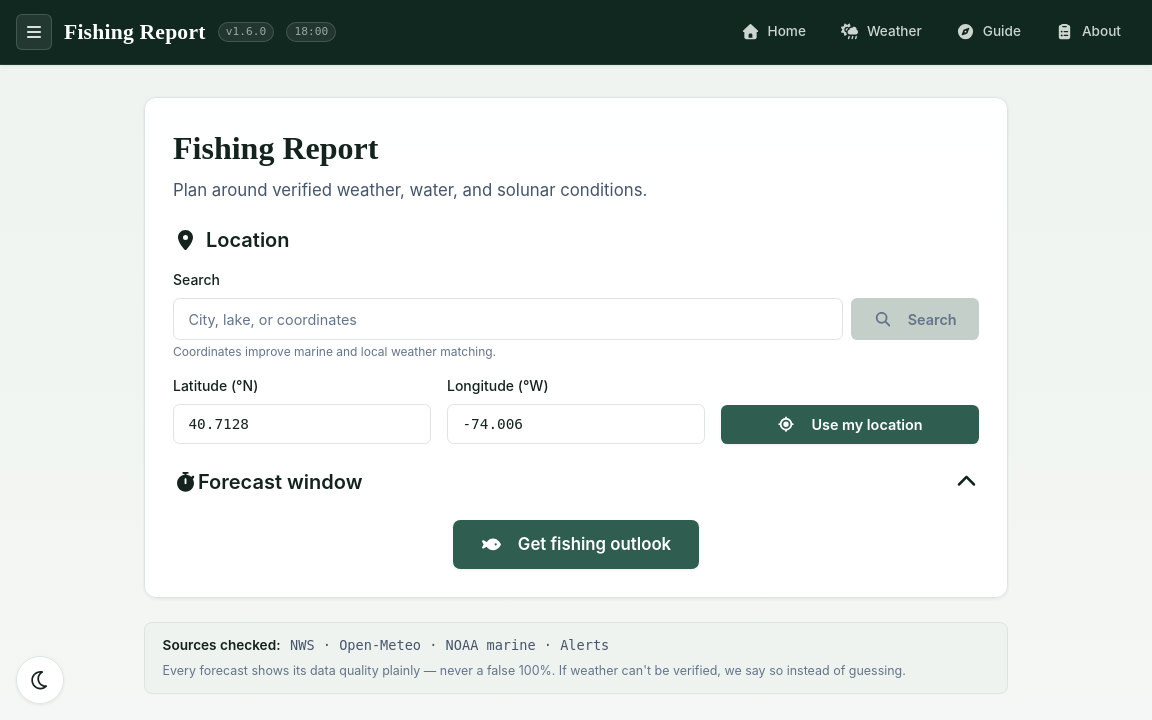
Test: MissionDrawer › saves the active location under the entered spot name
The image size is (1152, 720).
Click the button with test id "mission-drawer-toggle". click: x=34, y=32
box: [16,14,52,50]
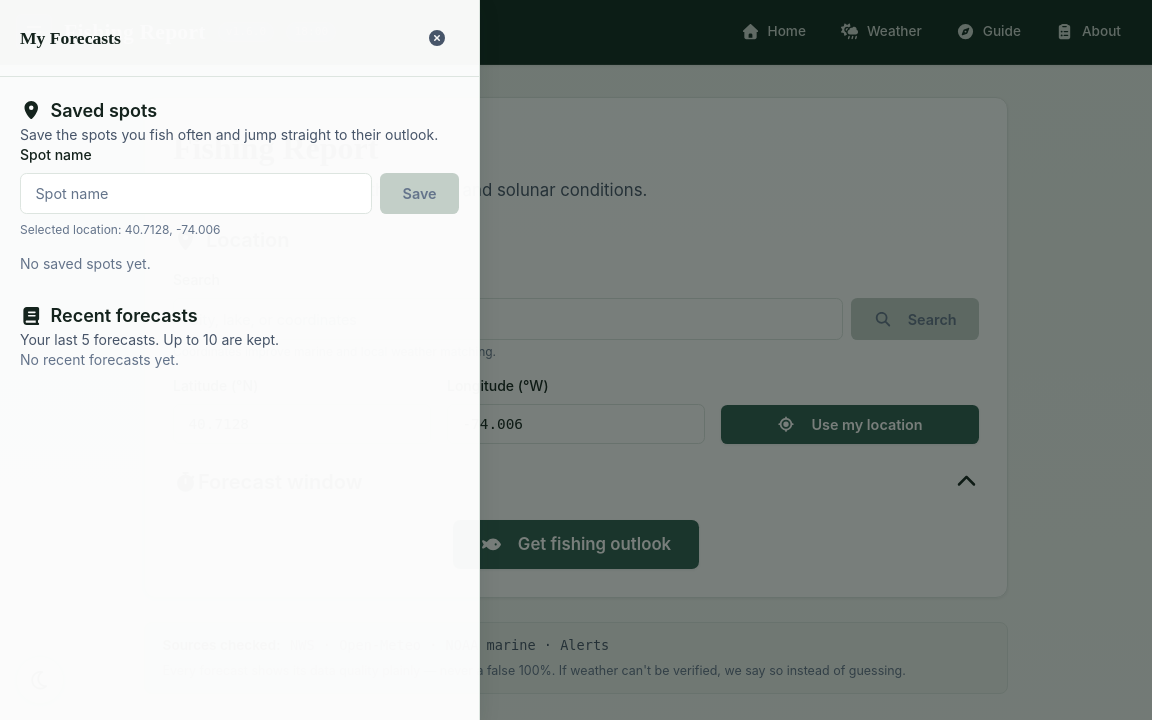
Type "Test Spot" into the field with test id "waypoint-name-input". click: x=196, y=194
box: [20,173,372,214]
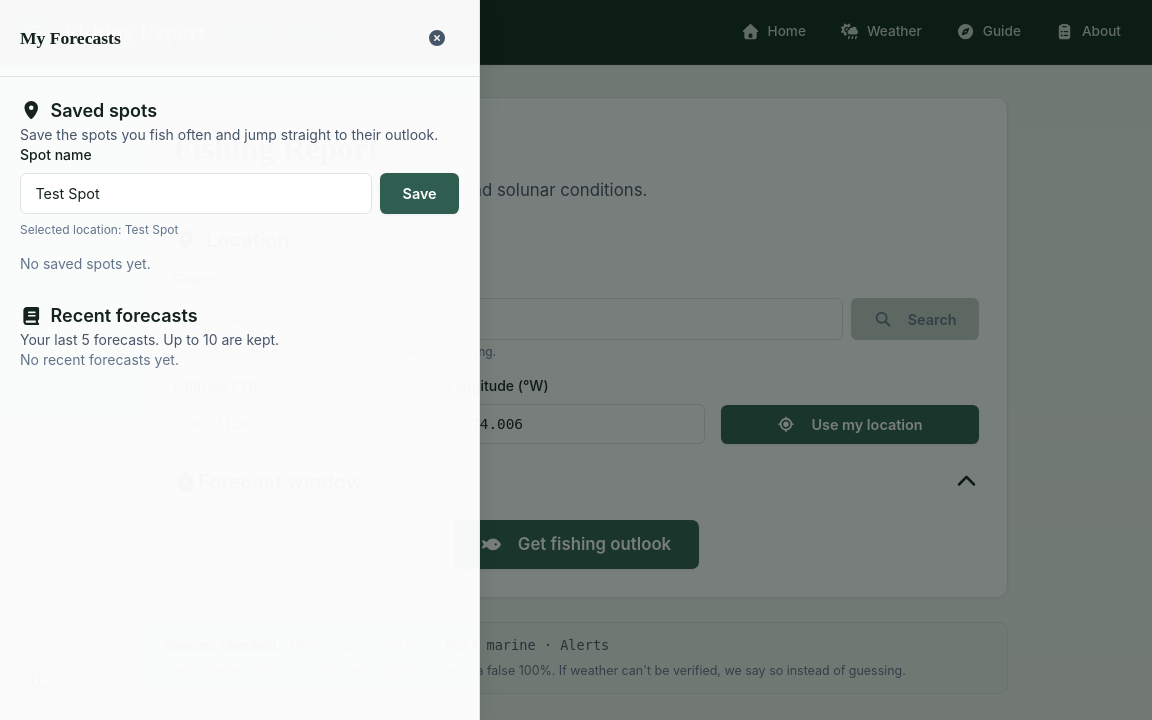
Click the button with test id "save-waypoint-button". click: x=420, y=194
box: [380,173,459,214]
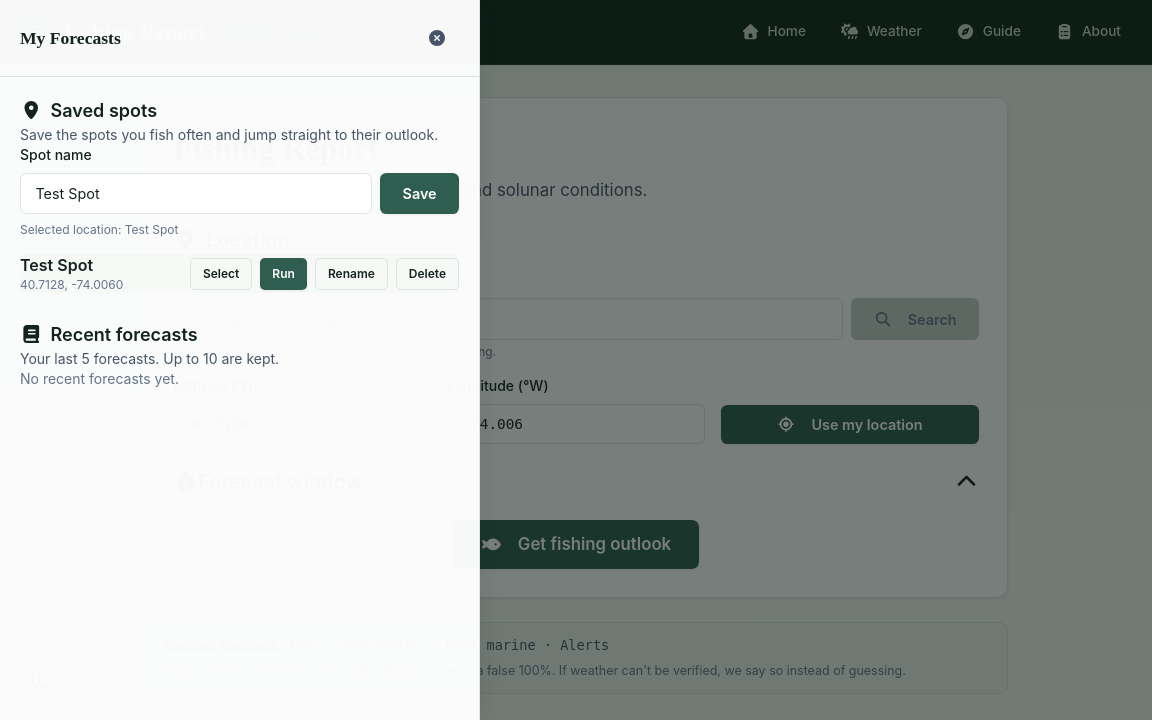
Now the text "Test Spot" is shown, box [20,255,93,275]
Now the text "40.7128, -74.0060" is shown, box [20,277,123,293]
